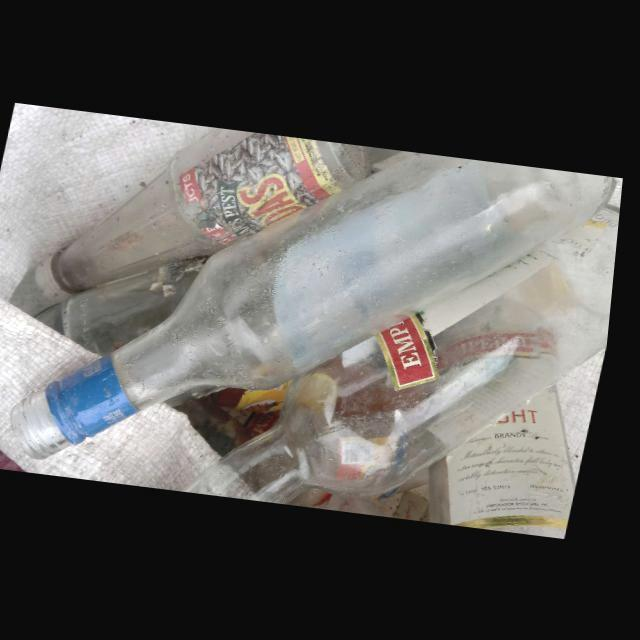glass_bottle: (17, 150, 620, 457), (192, 204, 624, 504), (39, 128, 376, 299)
